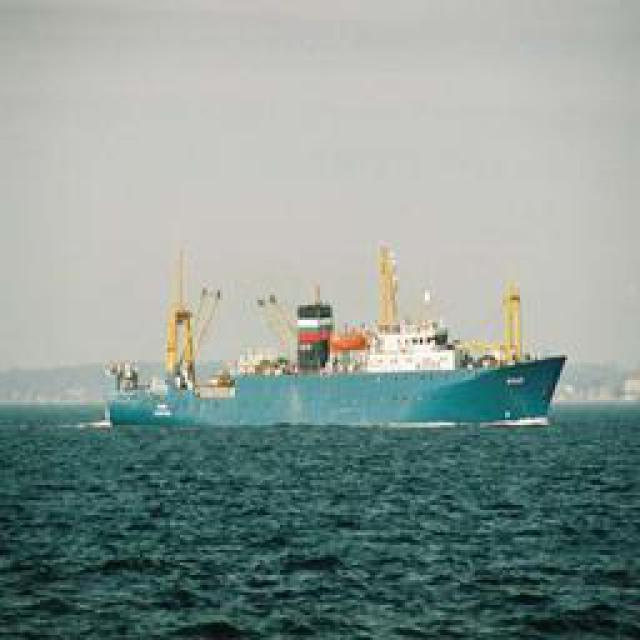Ship: (92, 252, 570, 430)
